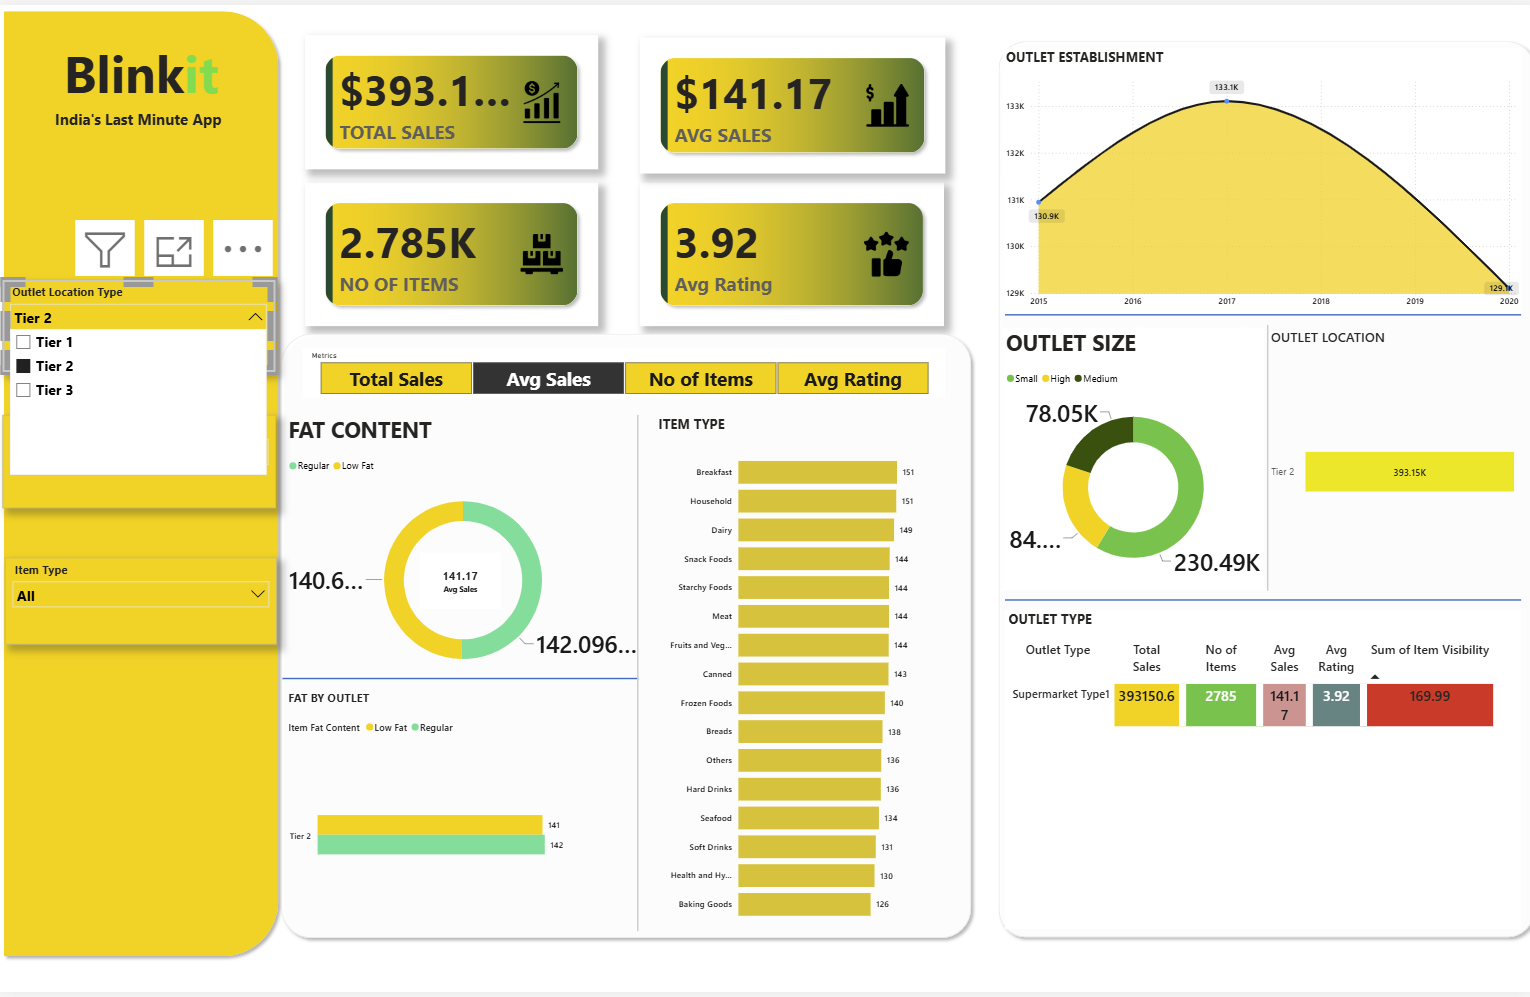

This screenshot's page, from the dashboard's own definition file:
{"tool":"powerbi","page":{"name":"Page 1","canvas":[2200,1400],"ordinal":0},"visuals":[{"type":"shape","box":[10.8,0,406.9,1357.1],"z":0},{"type":"textbox","box":[10.8,43.3,406.9,142.9],"z":1000},{"type":"textbox","box":[2.2,140.7,413.4,71.4],"z":2000},{"type":"cardVisual","fields":{"Data":["BlinkIT Grocery Data.No of Items"]},"box":[445.9,253.2,415.6,203.5],"z":3000},{"type":"cardVisual","fields":{"Data":["BlinkIT Grocery Data.Total Sales"]},"box":[445.9,43.3,415.6,190.5],"z":4000},{"type":"cardVisual","fields":{"Data":["BlinkIT Grocery Data.Avg Rating"]},"box":[922.1,253.2,430.7,203.5],"z":5000},{"type":"cardVisual","fields":{"Data":["BlinkIT Grocery Data.Avg Sales"]},"box":[919.9,45.5,432.9,192.6],"z":6000},{"type":"shape","box":[404.8,456.7,995.7,874.5],"z":7000},{"type":"donutChart","title":"FAT CONTENT","fields":{"Y":["BlinkIT Grocery Data.Avg Sales"],"Category":["BlinkIT Grocery Data.Item Fat Content"]},"box":[419.9,582.3,504.3,387.4],"z":8000},{"type":"slicer","fields":{"Values":["Metrics 2.Metrics"]},"box":[441.6,484.9,911.3,71.4],"z":9000},{"type":"cardVisual","fields":{"Data":["BlinkIT Grocery Data.Avg Sales"]},"box":[610.4,777.1,114.7,80.1],"z":10000},{"type":"clusteredBarChart","title":"FAT BY OUTLET","fields":{"Y":["BlinkIT Grocery Data.Avg Sales"],"Category":["BlinkIT Grocery Data.Outlet Location Type"],"Series":["BlinkIT Grocery Data.Item Fat Content"]},"box":[417.8,969.7,504.3,344.2],"z":11000},{"type":"shape","box":[415.6,893.9,504.3,123.4],"z":12000},{"type":"shape","box":[898.3,582.3,43.3,731.6],"z":13000},{"type":"barChart","title":"ITEM TYPE","fields":{"Y":["BlinkIT Grocery Data.Avg Sales"],"Category":["BlinkIT Grocery Data.Item Type"]},"box":[941.6,582.3,419.9,731.6],"z":14000},{"type":"shape","box":[1422.1,43.3,777.1,1287.9],"z":15000},{"type":"lineChart","title":"OUTLET ESTABLISHMENT","fields":{"Y":["BlinkIT Grocery Data.Total Sales"],"Category":["BlinkIT Grocery Data.Outlet Establishment Year"]},"box":[1434.5,61.9,736.8,378.2],"z":16000},{"type":"shape","box":[1439.4,333.3,731.6,212.1],"z":17000},{"type":"donutChart","title":"OUTLET SIZE","fields":{"Category":["BlinkIT Grocery Data.Outlet Size"],"Y":["BlinkIT Grocery Data.Total Sales"]},"box":[1435.1,456.7,370.1,372.3],"z":18000},{"type":"shape","box":[1774.9,452.4,71.4,376.6],"z":19000},{"type":"funnel","title":"OUTLET LOCATION","fields":{"Y":["Sum(BlinkIT Grocery Data.Sales)"],"Category":["BlinkIT Grocery Data.Outlet Location Type"]},"box":[1811.7,456.7,359.3,372.3],"z":20000},{"type":"shape","box":[1439.4,803,731.6,77.9],"z":21000},{"type":"pivotTable","title":"OUTLET TYPE","fields":{"Rows":["BlinkIT Grocery Data.Outlet Type"],"Values":["BlinkIT Grocery Data.Total Sales","BlinkIT Grocery Data.No of Items","BlinkIT Grocery Data.Avg Sales","BlinkIT Grocery Data.Avg Rating","Sum(BlinkIT Grocery Data.Item Visibility)"]},"box":[1439.4,859.3,731.6,452.4],"z":22000},{"type":"slicer","fields":{"Values":["BlinkIT Grocery Data.Outlet Location Type"]},"box":[19.5,389.6,385.3,129.9],"z":23000},{"type":"slicer","fields":{"Values":["BlinkIT Grocery Data.Outlet Size"]},"box":[19.5,582.3,387.4,132],"z":24000},{"type":"slicer","fields":{"Values":["BlinkIT Grocery Data.Item Type"]},"box":[21.6,783.6,385.3,123.4],"z":25000}]}

Visuals, with their boxes in screenshot pixels (x1, y1, x2, y2), scaled from the page's 2200x1400 canvas onto the 1530x997 screenshot:
shape: x1=8 y1=0 x2=290 y2=966
textbox: x1=8 y1=31 x2=290 y2=133
textbox: x1=2 y1=100 x2=289 y2=151
cardVisual - BlinkIT Grocery Data.No of Items: x1=310 y1=180 x2=599 y2=325
cardVisual - BlinkIT Grocery Data.Total Sales: x1=310 y1=31 x2=599 y2=166
cardVisual - BlinkIT Grocery Data.Avg Rating: x1=641 y1=180 x2=941 y2=325
cardVisual - BlinkIT Grocery Data.Avg Sales: x1=640 y1=32 x2=941 y2=170
shape: x1=282 y1=325 x2=974 y2=948
"FAT CONTENT" donutChart: x1=292 y1=415 x2=643 y2=691
slicer - Metrics 2.Metrics: x1=307 y1=345 x2=941 y2=396
cardVisual - BlinkIT Grocery Data.Avg Sales: x1=425 y1=553 x2=504 y2=610
"FAT BY OUTLET" clusteredBarChart: x1=291 y1=691 x2=641 y2=936
shape: x1=289 y1=637 x2=640 y2=724
shape: x1=625 y1=415 x2=655 y2=936
"ITEM TYPE" barChart: x1=655 y1=415 x2=947 y2=936
shape: x1=989 y1=31 x2=1529 y2=948
"OUTLET ESTABLISHMENT" lineChart: x1=998 y1=44 x2=1510 y2=313
shape: x1=1001 y1=237 x2=1510 y2=388
"OUTLET SIZE" donutChart: x1=998 y1=325 x2=1255 y2=590
shape: x1=1234 y1=322 x2=1284 y2=590
"OUTLET LOCATION" funnel: x1=1260 y1=325 x2=1510 y2=590
shape: x1=1001 y1=572 x2=1510 y2=627
"OUTLET TYPE" pivotTable: x1=1001 y1=612 x2=1510 y2=934
slicer - BlinkIT Grocery Data.Outlet Location Type: x1=14 y1=277 x2=282 y2=370
slicer - BlinkIT Grocery Data.Outlet Size: x1=14 y1=415 x2=283 y2=509
slicer - BlinkIT Grocery Data.Item Type: x1=15 y1=558 x2=283 y2=646
